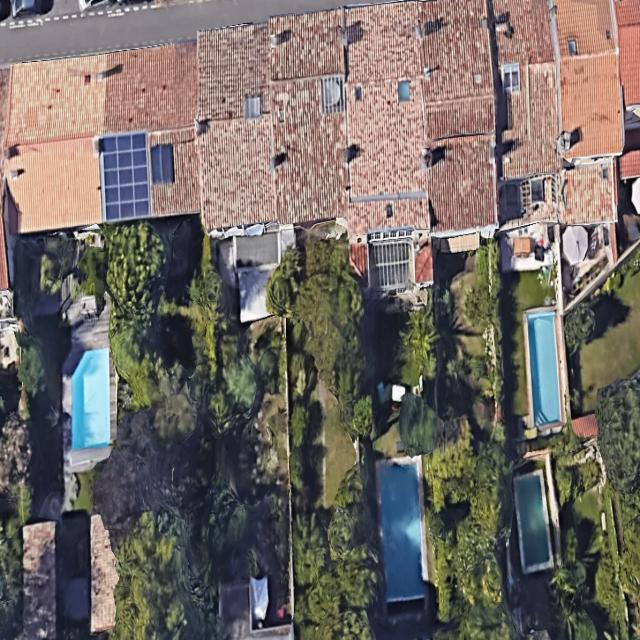maison: (0, 39, 214, 234), (342, 3, 433, 289), (415, 0, 500, 230), (269, 5, 351, 222), (487, 0, 563, 225), (193, 26, 275, 226), (556, 0, 625, 220), (616, 0, 639, 103)
